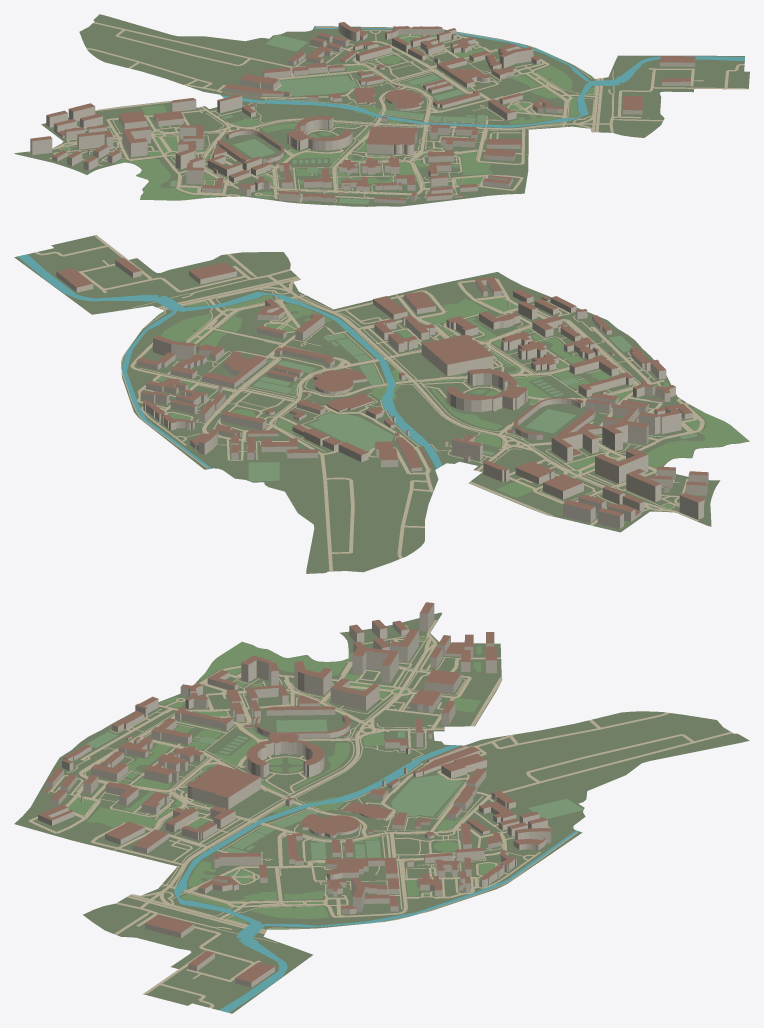
3 renders of one model, top to bottom at view 1: azimuth 30°, elevation 25°; view 2: azimuth 150°, elevation 25°; view 3: azimuth 270°, elevation 25°, orthographic. The views are drawn at different scales.
Visible parts, largest first — view 1: campus-ground, environment (×4), buildings, roofs; view 2: campus-ground, environment (×4), buildings, roofs; view 3: campus-ground, environment (×4), buildings, roofs.
Part boxes in pixels (<box>): campus-ground: <box>14,14,749,206</box>; environment (×4): <box>28,22,747,204</box>; buildings: <box>30,23,695,203</box>; roofs: <box>30,22,695,200</box>; campus-ground: <box>14,235,749,573</box>; environment (×4): <box>17,235,749,571</box>; buildings: <box>56,260,708,529</box>; roofs: <box>56,258,708,516</box>; campus-ground: <box>14,612,749,1013</box>; environment (×4): <box>28,620,732,1012</box>; buildings: <box>38,603,551,987</box>; roofs: <box>38,602,551,982</box>.
Bounding box in the file's own units: 1934 × 39.8 × 1499.
